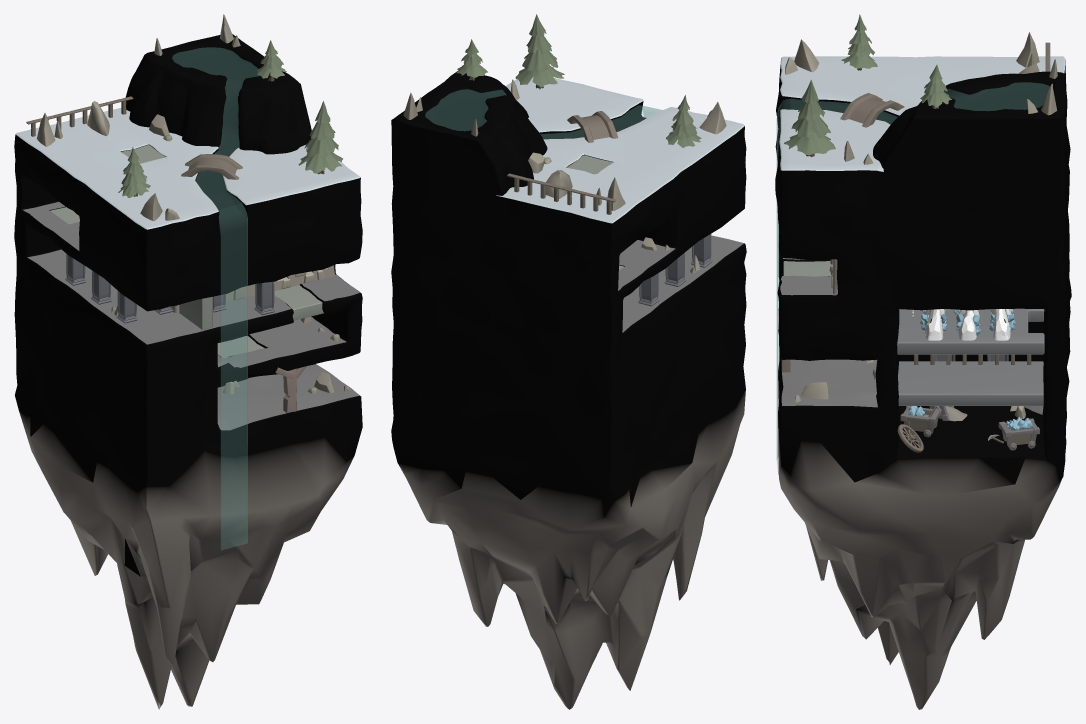
File: Level_1.fbx
3 views of the same model, side by side, from view 1: azimuth 30°, elevation 25°; view 2: azimuth 150°, elevation 25°; view 3: azimuth 270°, elevation 25° (orthographic). The views are drawn at different scales.
Parts seen in each view (by area): view 1: Merged_Terrain1, polySurface13, Part2, Part1, Tree1, Breakable3, Bridge, Tree2, Breakable2, Support_Beam, Breakable5, Tree3 (+1 smaller); view 2: Merged_Terrain1, polySurface13, Part1, Tree1, Bridge, Tree2, Tree3; view 3: Merged_Terrain1, polySurface13, Platform2, Platform1, Part1, Tree1, Minecart (×2), Bridge, Part2, Tree2, Breakable3, OreRock5 (+4 smaller).
Part boxes in pixels (x1=…): Merged_Terrain1: x1=14, y1=34, x2=362, y2=709; polySurface13: x1=15, y1=108, x2=360, y2=430; Part2: x1=219, y1=204, x2=247, y2=549; Part1: x1=172, y1=47, x2=258, y2=209; Tree1: x1=298, y1=101, x2=342, y2=174; Breakable3: x1=274, y1=285, x2=323, y2=320; Bridge: x1=181, y1=154, x2=242, y2=179; Tree2: x1=118, y1=147, x2=150, y2=197; Breakable2: x1=179, y1=296, x2=212, y2=329; Support_Beam: x1=275, y1=366, x2=306, y2=412; Breakable5: x1=217, y1=336, x2=264, y2=358; Tree3: x1=257, y1=40, x2=286, y2=81; Merged_Terrain1: x1=391, y1=70, x2=746, y2=709; polySurface13: x1=496, y1=77, x2=744, y2=332; Part1: x1=425, y1=89, x2=660, y2=138; Tree1: x1=515, y1=14, x2=564, y2=89; Bridge: x1=567, y1=111, x2=618, y2=142; Tree2: x1=666, y1=95, x2=701, y2=147; Tree3: x1=456, y1=39, x2=487, y2=80; Merged_Terrain1: x1=775, y1=59, x2=1071, y2=709; polySurface13: x1=779, y1=56, x2=1064, y2=407; Platform2: x1=898, y1=361, x2=1043, y2=405; Platform1: x1=897, y1=308, x2=1044, y2=354; Part1: x1=790, y1=82, x2=1049, y2=124; Tree1: x1=784, y1=80, x2=835, y2=157; Minecart (×2): x1=900, y1=406, x2=1039, y2=450; Bridge: x1=840, y1=93, x2=904, y2=127; Part2: x1=776, y1=99, x2=790, y2=473; Tree2: x1=841, y1=14, x2=877, y2=70; Breakable3: x1=783, y1=261, x2=832, y2=276; OreRock5: x1=989, y1=309, x2=1015, y2=340.
Bounding box in the file's own units: 20.2 × 54.77 × 21.28.
